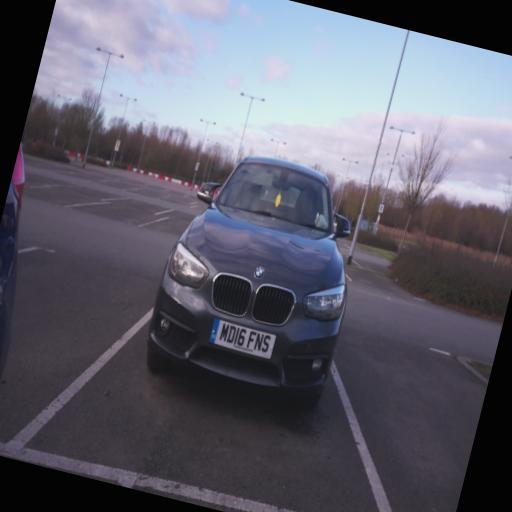numberplates: (210, 319, 275, 358)
